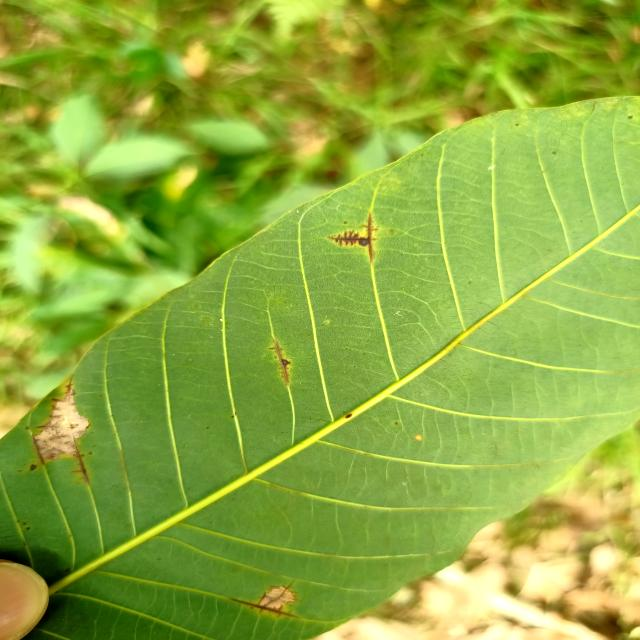Corynespora: (326, 212, 379, 264), (232, 598, 302, 620), (269, 340, 291, 384), (72, 445, 91, 486), (30, 435, 46, 463), (330, 592, 337, 595)
Leaf-Blight: (36, 391, 89, 461), (261, 587, 295, 609)
